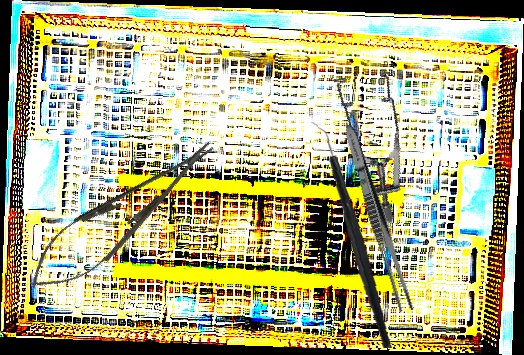Chopper: (291, 121, 409, 349)
Dressing Forceps: (339, 122, 417, 314)
Needle Holder: (14, 123, 230, 309)
Speculum: (289, 52, 446, 225)
